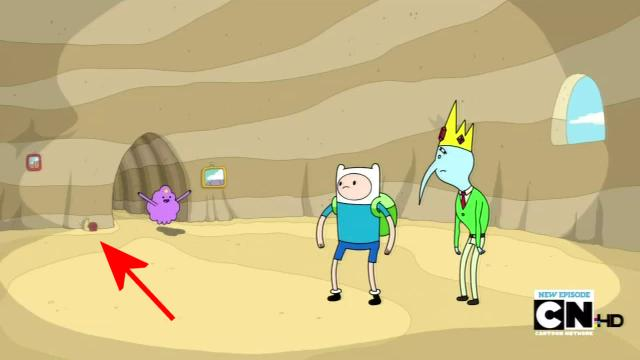snail: (80, 216, 99, 232)
